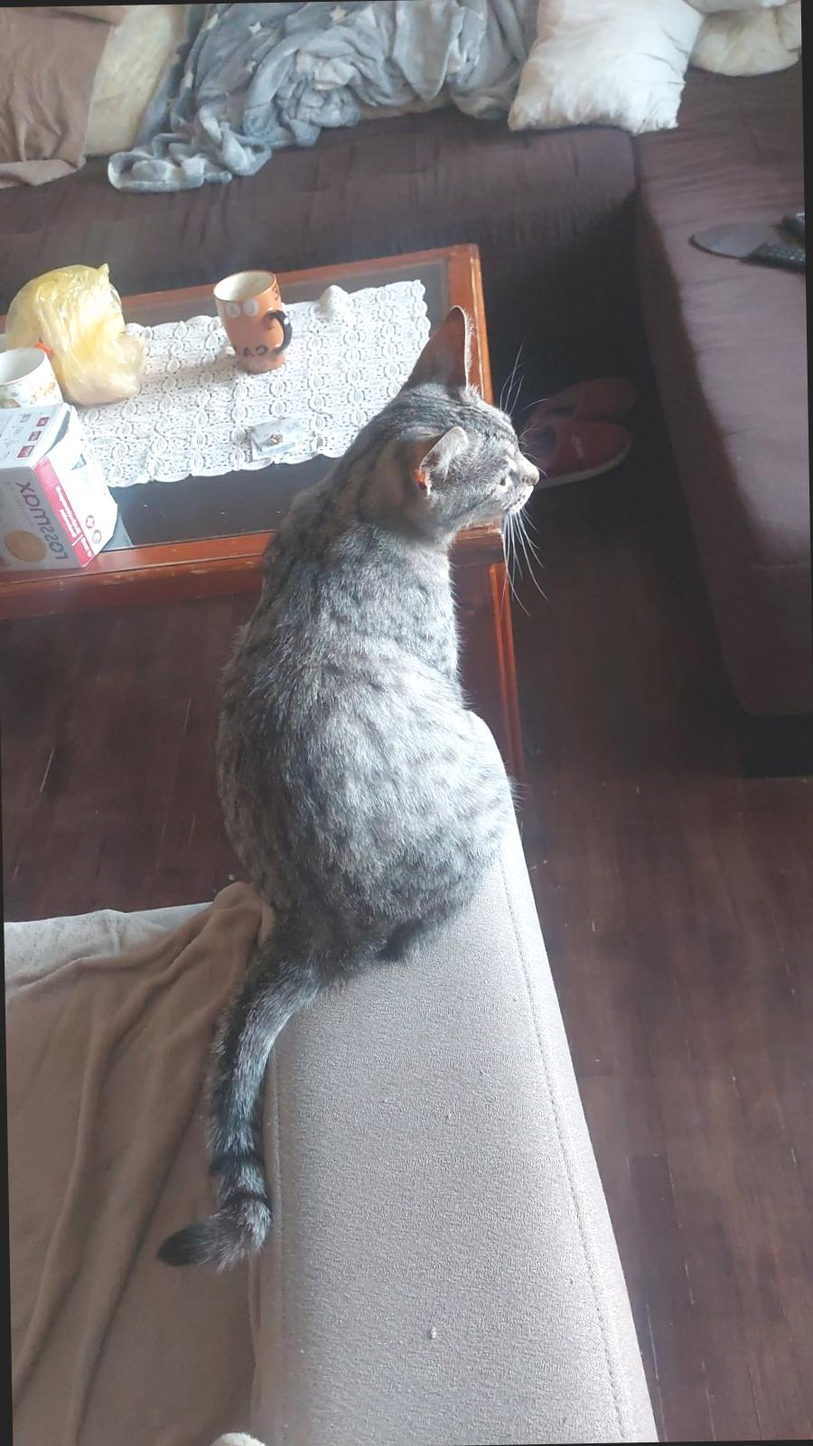macka: (140, 305, 561, 1276)
